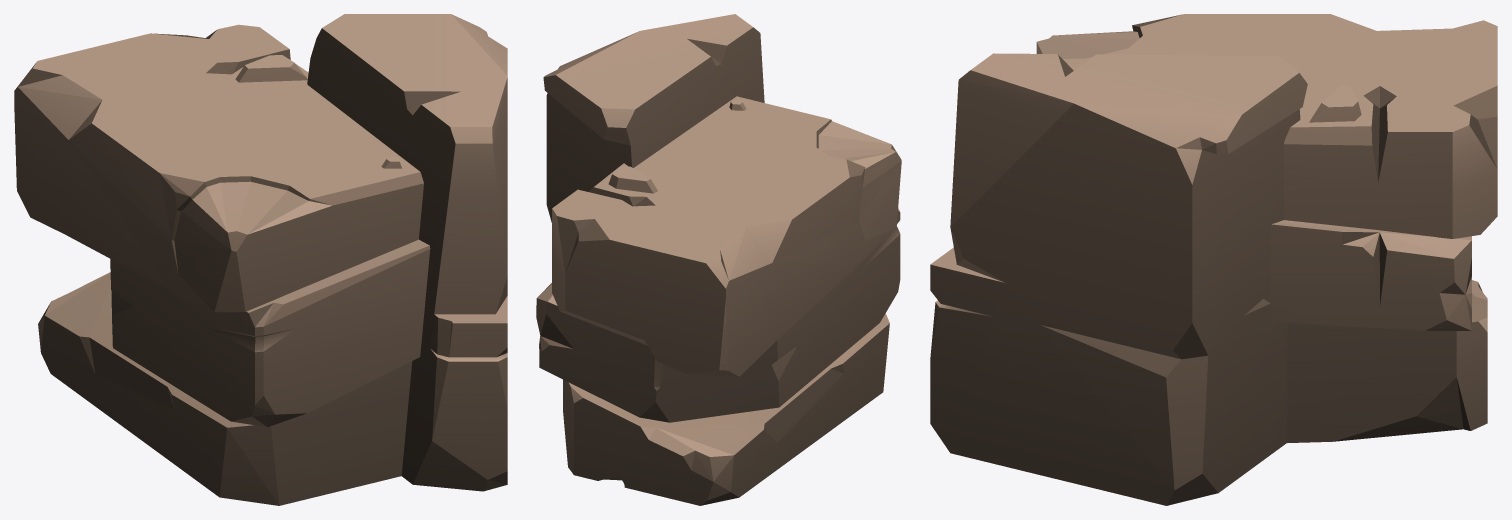
File: Rock_Large_3B.fbx
3 views of the same model, side by side, from view 1: azimuth 30°, elevation 25°; view 2: azimuth 150°, elevation 25°; view 3: azimuth 270°, elevation 25° (orthographic). The views are drawn at different scales.
Parts seen in each view (by area): view 1: Rock_Large_3B; view 2: Rock_Large_3B; view 3: Rock_Large_3B.
Boxes of the visible parts, left/top/right/bottom form: Rock_Large_3B: left=14, top=14, right=507, bottom=505; Rock_Large_3B: left=536, top=14, right=901, bottom=505; Rock_Large_3B: left=930, top=14, right=1497, bottom=505.
Bounding box in the file's own units: 3.13 × 3 × 4.06.
